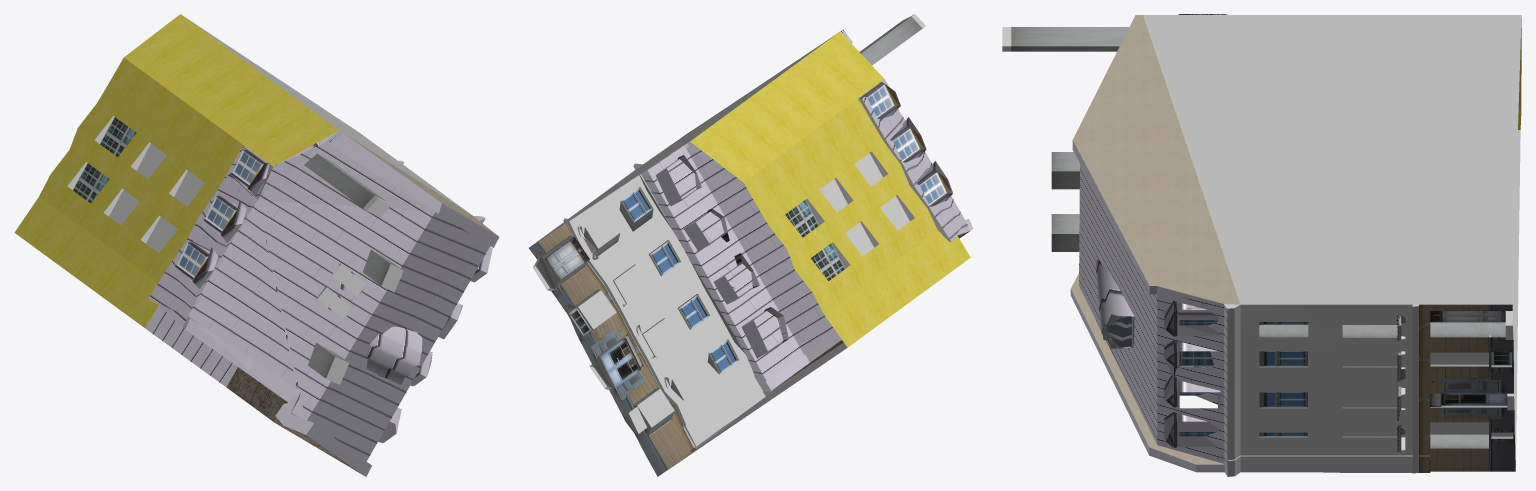
Rendered from Pikk_31-origo.obj.
The picture shows the model from 3 angles, left to right: view 1: azimuth 30°, elevation 25°; view 2: azimuth 150°, elevation 25°; view 3: azimuth 270°, elevation 25°; orthographic projection. The views are drawn at different scales.
Visible parts, largest first — view 1: Pikk_31; view 2: Pikk_31; view 3: Pikk_31.
Part boxes in pixels (x1,y1,x2,y2): Pikk_31: (14,14,499,476); Pikk_31: (528,14,973,476); Pikk_31: (1002,14,1521,476).
Size of the model in its own units: 18.44 by 18.5 by 20.
